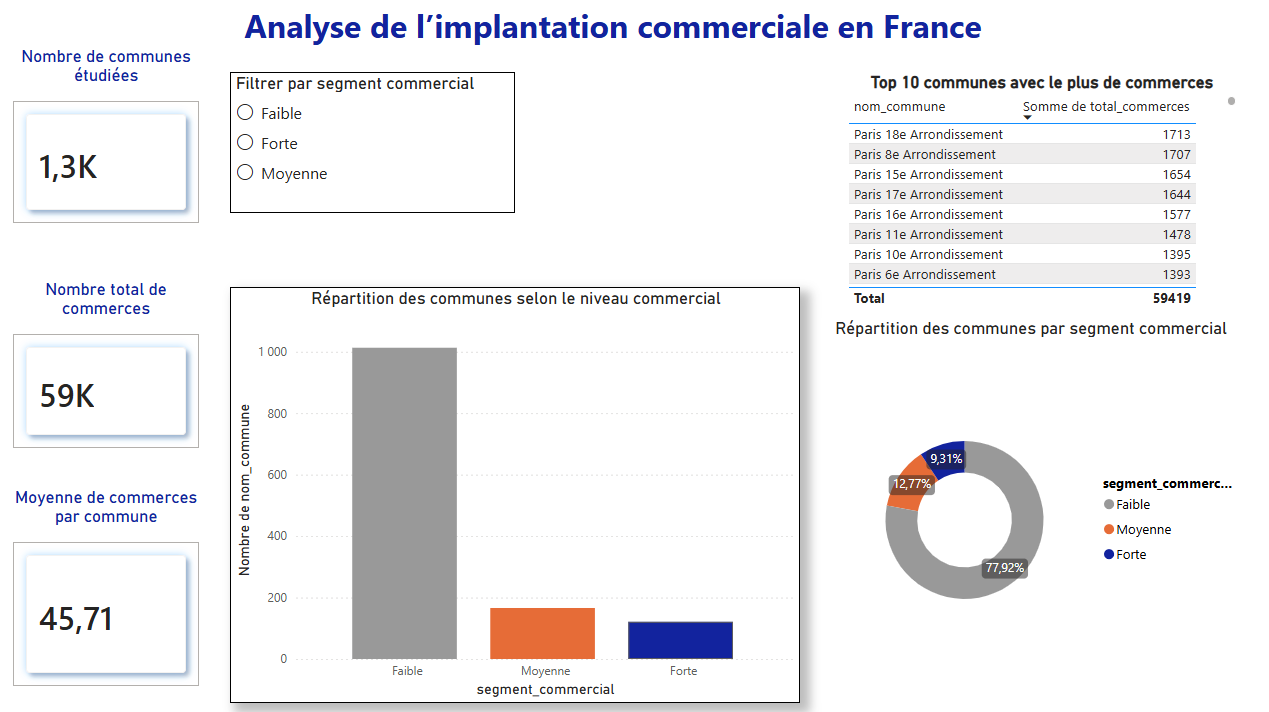

Layout of this report page (visuals, bound fields, positions):
{"tool":"powerbi","page":{"name":"Page 1","canvas":[1280,720],"ordinal":0},"visuals":[{"type":"cardVisual","title":"Nombre de communes étudiées","fields":{"Data":["CountNonNull(DWH_Commerces_Commune.nom_commune)"]},"box":[0,48,220,194],"z":0},{"type":"cardVisual","title":"Nombre total de commerces","fields":{"Data":["Sum(DWH_Commerces_Commune.total_commerces)"]},"box":[0,281,220,186],"z":1000},{"type":"cardVisual","title":"Moyenne de commerces par commune","fields":{"Data":["Avg(DWH_Commerces_Commune.total_commerces)"]},"box":[0,489,220,216],"z":2000},{"type":"clusteredColumnChart","title":"Répartition des communes selon le niveau commercial","fields":{"Category":["DWH_Commerces_Commune.segment_commercial"],"Y":["CountNonNull(DWH_Commerces_Commune.nom_commune)"]},"box":[234,289,570,416],"z":3000},{"type":"donutChart","title":"Répartition des communes par segment commercial","fields":{"Category":["DWH_Commerces_Commune.segment_commercial"],"Y":["CountNonNull(DWH_Commerces_Commune.nom_commune)"]},"box":[825,320,420,385],"z":4000},{"type":"tableEx","title":"Top 10 communes avec le plus de commerces","fields":{"Values":["DWH_Commerces_Commune.nom_commune","Sum(DWH_Commerces_Commune.total_commerces)"]},"box":[847,74,398,240],"z":5000},{"type":"listSlicer","title":"Filtrer par segment commercial","fields":{"Values":["DWH_Commerces_Commune.segment_commercial"]},"box":[376,74,285,141],"z":5001},{"type":"textbox","box":[234,0,766,61],"z":5002}]}

Visuals, with their boxes in screenshot pixels (x1, y1, x2, y2), scaled from the page's 1280x720 canvas onto the 1269x712 screenshot:
"Nombre de communes étudiées" cardVisual: 0, 47, 218, 239
"Nombre total de commerces" cardVisual: 0, 278, 218, 462
"Moyenne de commerces par commune" cardVisual: 0, 484, 218, 697
"Répartition des communes selon le niveau commercial" clusteredColumnChart: 232, 286, 797, 697
"Répartition des communes par segment commercial" donutChart: 818, 316, 1234, 697
"Top 10 communes avec le plus de commerces" tableEx: 840, 73, 1234, 311
"Filtrer par segment commercial" listSlicer: 373, 73, 655, 213
textbox: 232, 0, 991, 60
